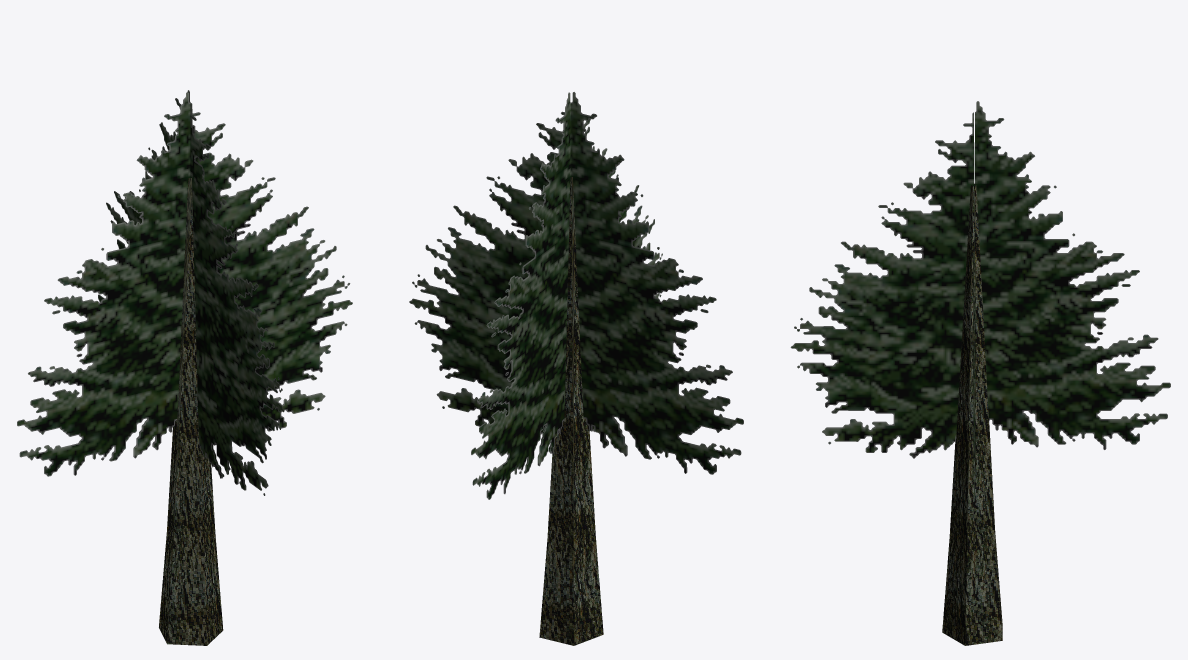
File: RPine1.fbx
3 renders of one model, left to right at view 1: azimuth 30°, elevation 25°; view 2: azimuth 150°, elevation 25°; view 3: azimuth 270°, elevation 25°, orthographic. The views are drawn at different scales.
Parts seen in each view (by area): view 1: lomb, torzs; view 2: lomb, torzs; view 3: lomb, torzs.
Part boxes in pixels (x1,y1,x2,y2): lomb: (17, 90, 352, 495); torzs: (159, 178, 223, 645); lomb: (409, 92, 743, 499); torzs: (539, 177, 603, 645); lomb: (790, 101, 1170, 497); torzs: (942, 183, 1002, 645).
Bounding box in the file's own units: 205 × 304 × 205.
